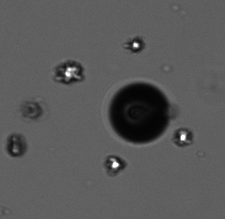Dead Cell: (6, 134, 26, 158), (21, 99, 42, 119)
Living Cell: (55, 60, 83, 83), (126, 34, 147, 54), (172, 128, 194, 147), (105, 156, 123, 175)
